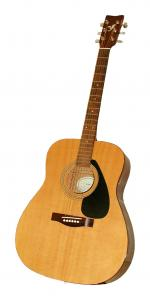guitar: (13, 12, 136, 286)
